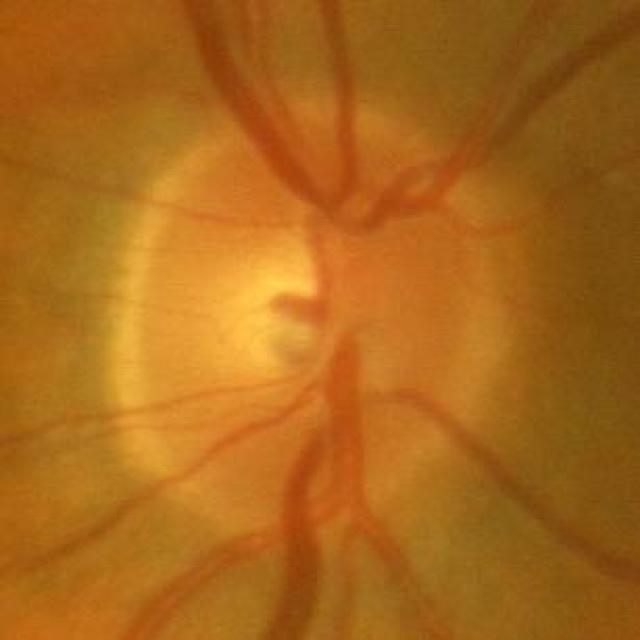OC: (217, 230, 381, 391)
OD: (112, 103, 518, 540)
